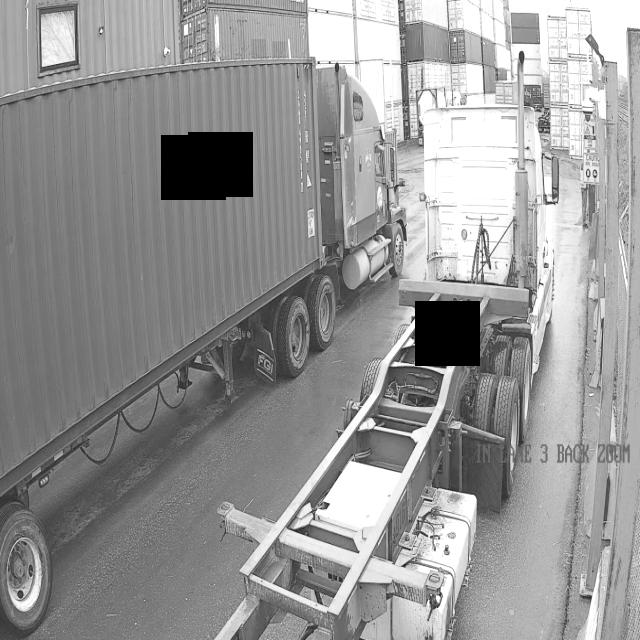truck_with_container: (0, 59, 406, 634)
truck_without_container: (216, 105, 559, 640)
